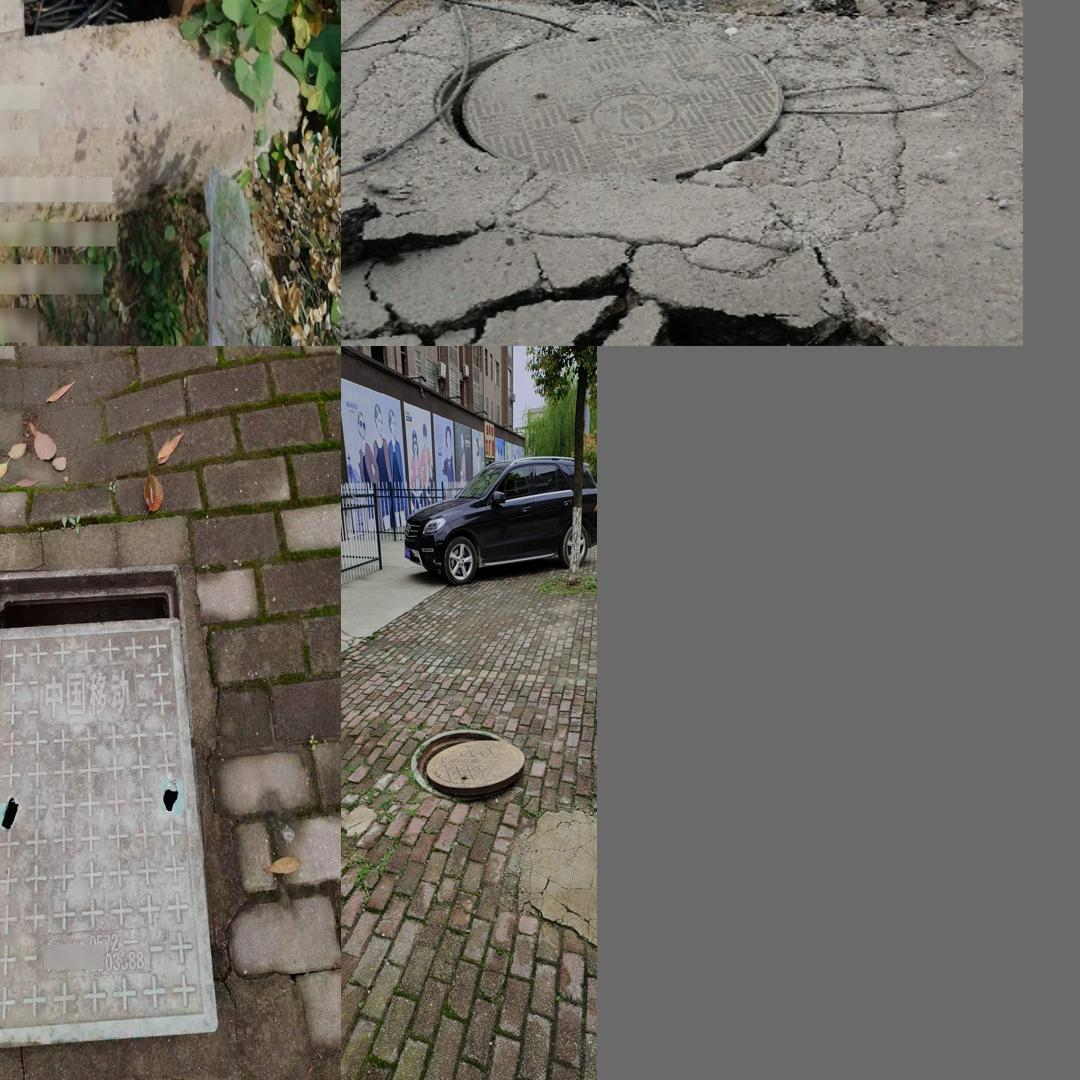uncovered: (0, 564, 217, 1049), (433, 29, 783, 177), (0, 0, 280, 51), (411, 728, 525, 800)
